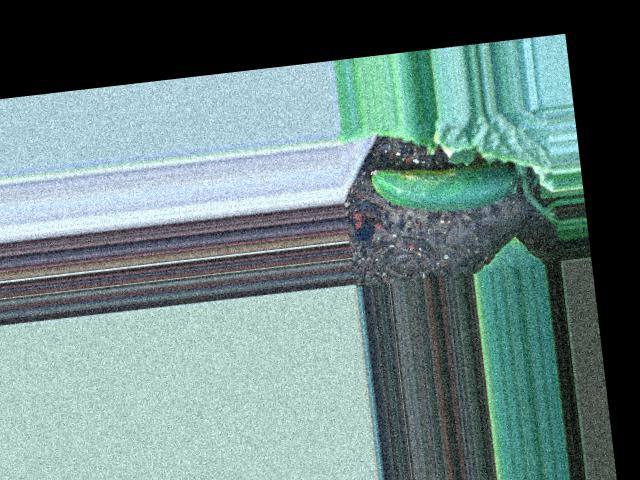cucumber: (369, 153, 518, 219)
